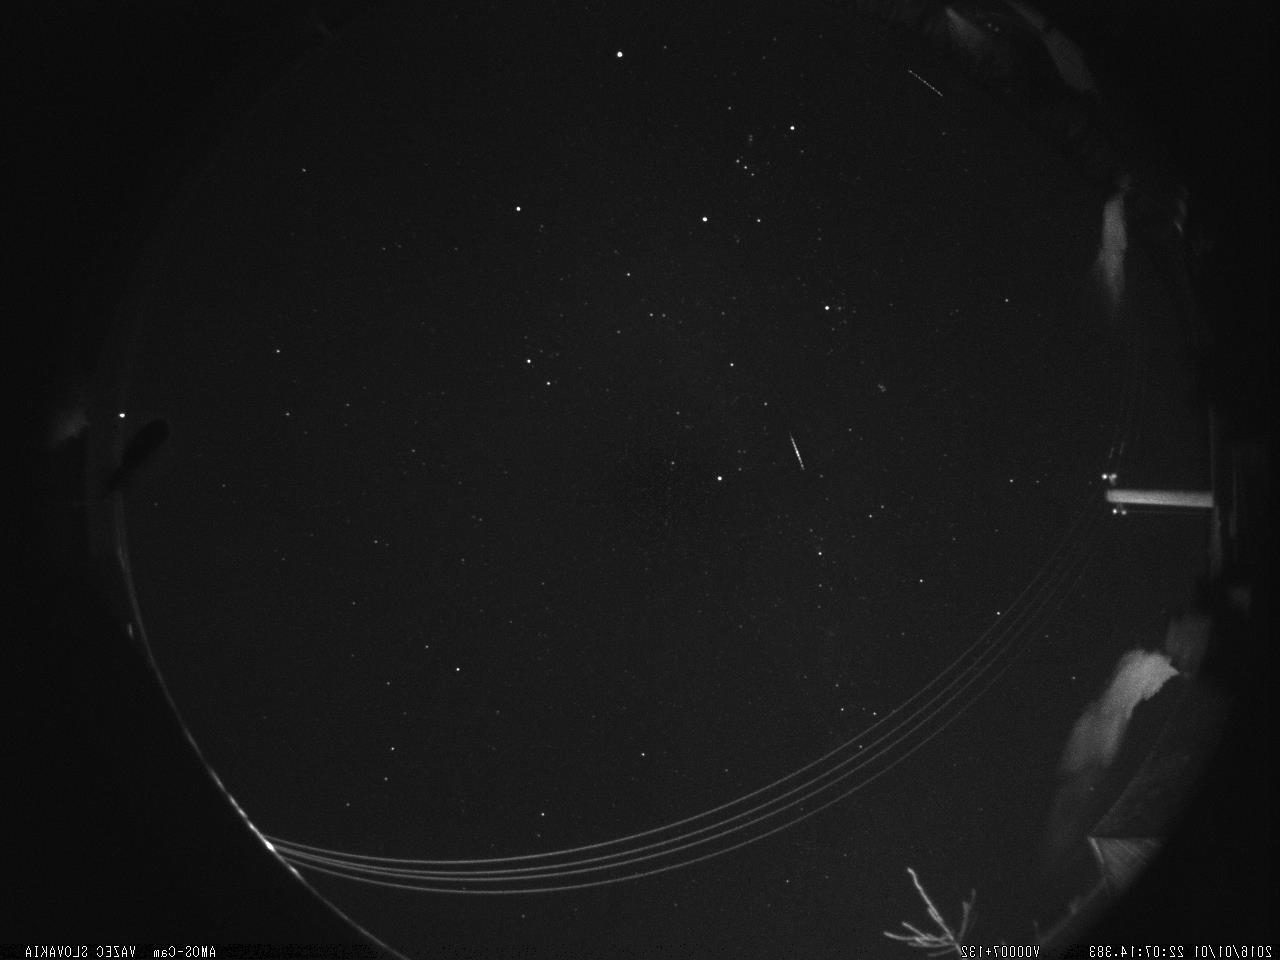meteor: (780, 424, 810, 476)
